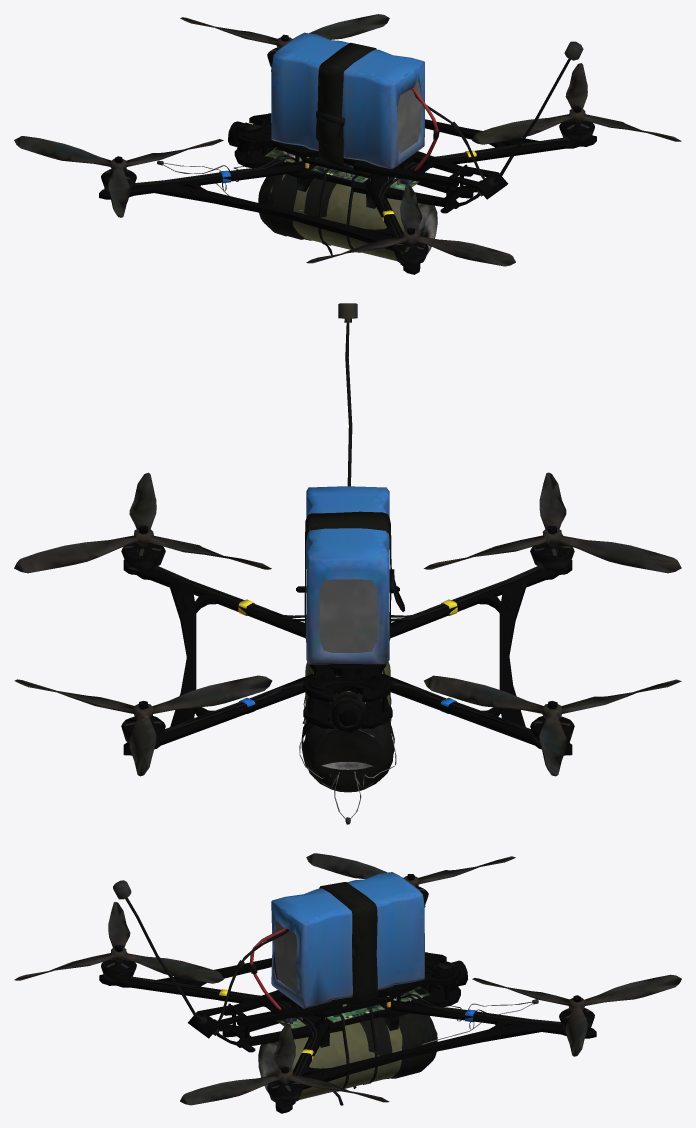
File: item.drone.kamikaze.glb
The picture shows the model from 3 angles, top to bottom: view 1: azimuth 30°, elevation 25°; view 2: azimuth 150°, elevation 25°; view 3: azimuth 270°, elevation 25°; orthographic projection. The views are drawn at different scales.
Visible parts, largest first — view 1: BezierCurve_004; view 2: BezierCurve_004; view 3: BezierCurve_004.
Part boxes in pixels (box(x1,y1,x2,y2)): BezierCurve_004: box(14, 14, 681, 274); BezierCurve_004: box(14, 303, 681, 824); BezierCurve_004: box(14, 853, 681, 1113).
Size of the model in its own units: 0.8993 by 0.4587 by 1.04.
Materials: 1 (1 with a texture image).
